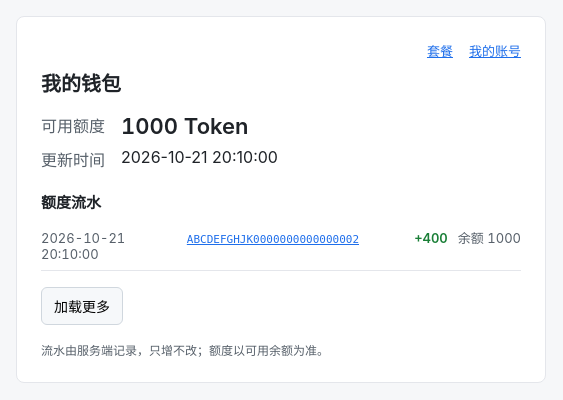
Test: 钱包页 › 按服务端 nextCursor 加载下一页并追加，没有更多时按钮消失
Click the button "加载更多": [82, 306] box [41, 286, 123, 324]
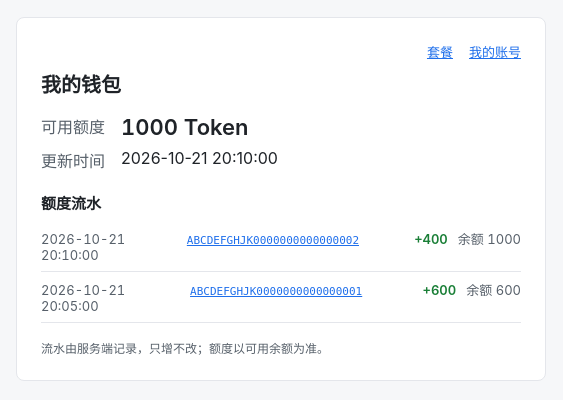
Check: the text "余额 1000" is shown, box [458, 229, 521, 248]
Check: the text "余额 600" is shown, box [466, 280, 521, 299]
Check: the button "加载更多" is gone
